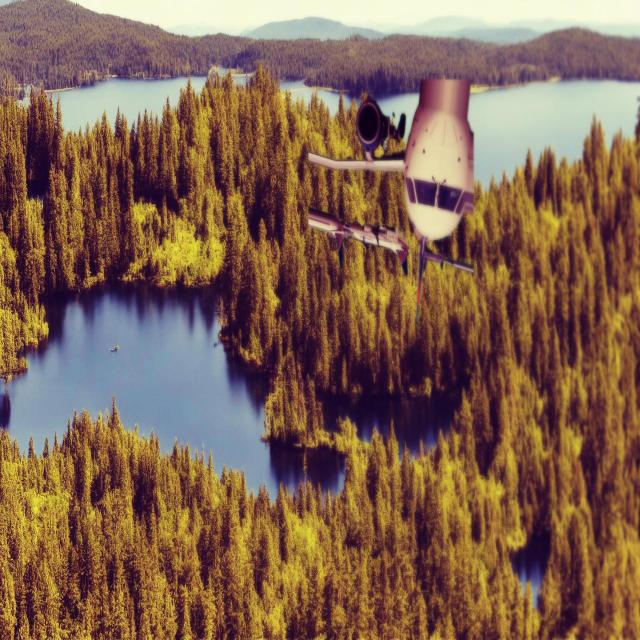airplane: (307, 76, 476, 325), (307, 205, 409, 273)
